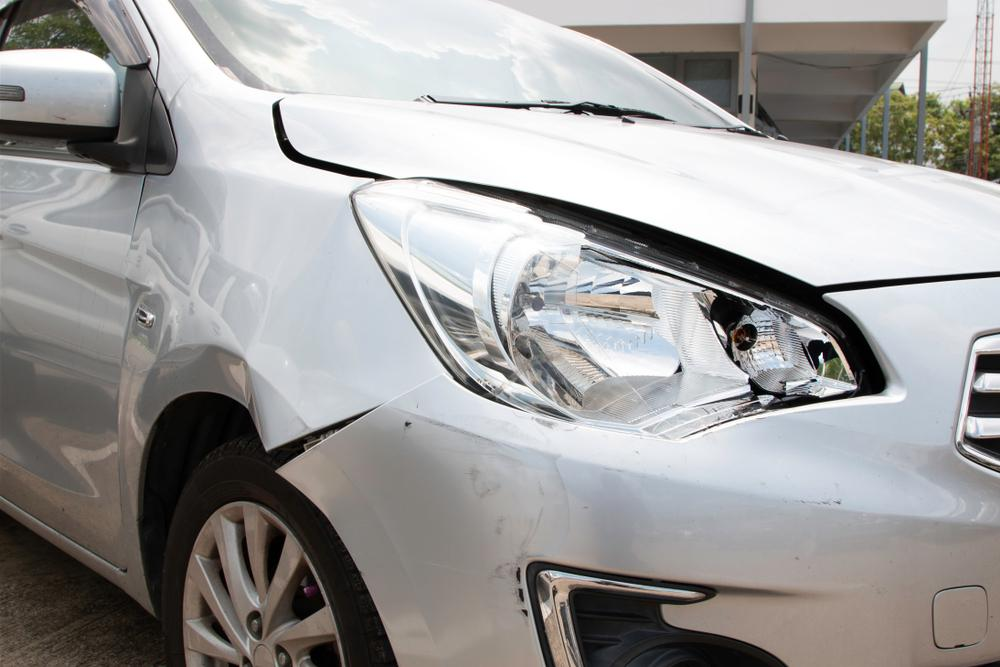dent: (134, 345, 266, 452)
lamp broken: (351, 178, 890, 437)
scratch: (410, 415, 585, 628)
